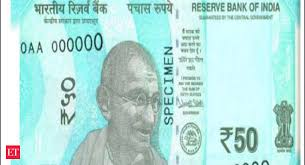fifty: (17, 26, 271, 154)
